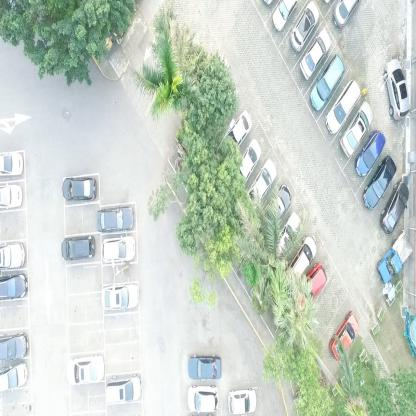car: (338, 98, 374, 160), (309, 53, 345, 113), (284, 232, 319, 290), (324, 79, 360, 135), (272, 207, 302, 270), (381, 57, 410, 121), (219, 109, 252, 165), (376, 232, 412, 283), (363, 157, 396, 212), (246, 154, 278, 210), (351, 128, 385, 180), (300, 26, 330, 84), (329, 309, 361, 359), (234, 134, 264, 187), (262, 182, 291, 236), (290, 1, 320, 53), (380, 182, 409, 234), (296, 260, 326, 310), (105, 372, 143, 406), (101, 233, 138, 265), (70, 352, 104, 386), (99, 284, 140, 312), (62, 172, 96, 202), (187, 350, 222, 379), (61, 233, 96, 262), (186, 382, 220, 411), (0, 359, 28, 392), (96, 208, 134, 232), (271, 0, 297, 35), (333, 0, 363, 30), (0, 330, 29, 361), (0, 270, 28, 302), (228, 387, 258, 415), (0, 239, 26, 271), (0, 181, 23, 209), (0, 151, 24, 177)
